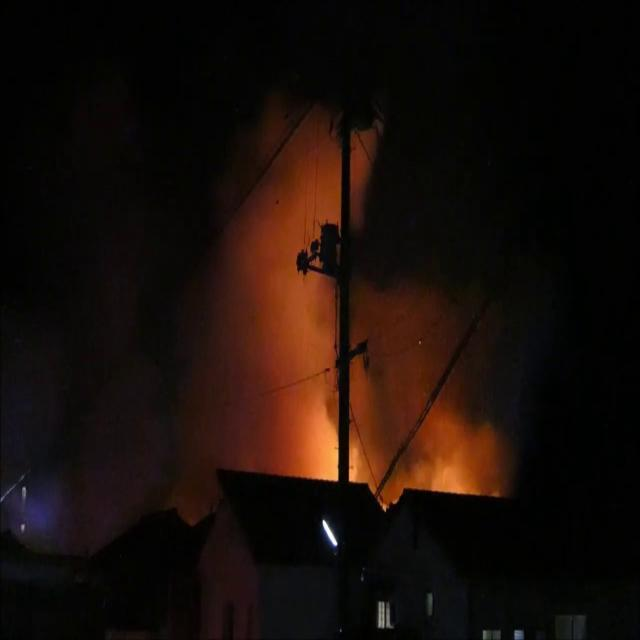Smoke: (132, 51, 544, 482)
